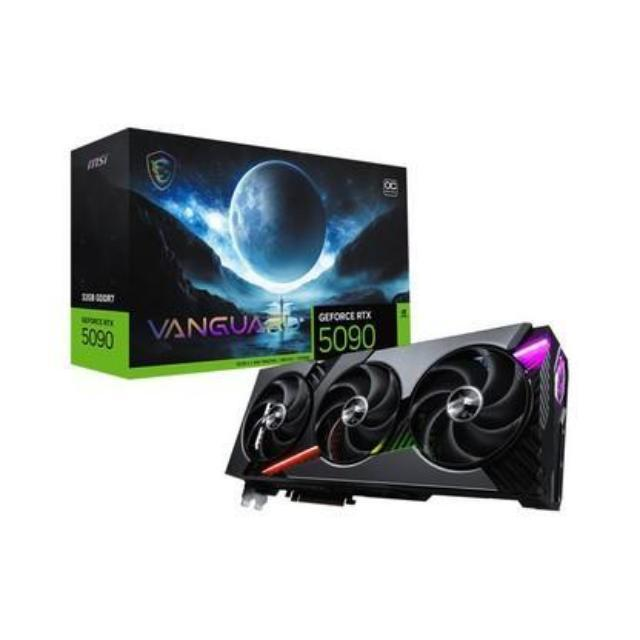GPU: (218, 319, 580, 513)
